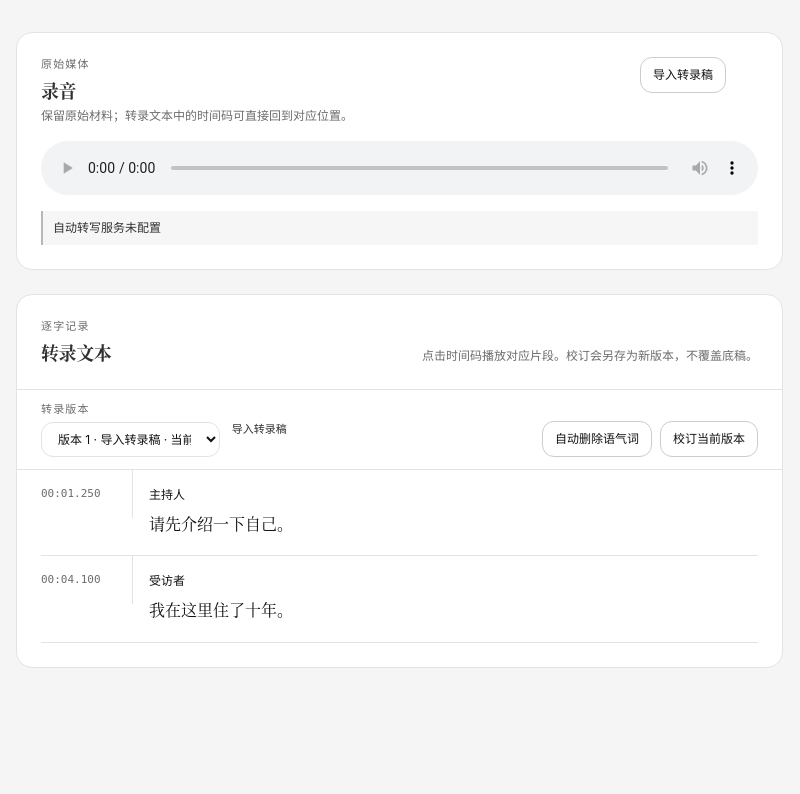
Test: MediaTranscriptWorkspace › saves speaker and text corrections as a new version
The width and height of the screenshot is (800, 794).
Click the button "校订当前版本" at (709, 439), box [660,421,758,457]
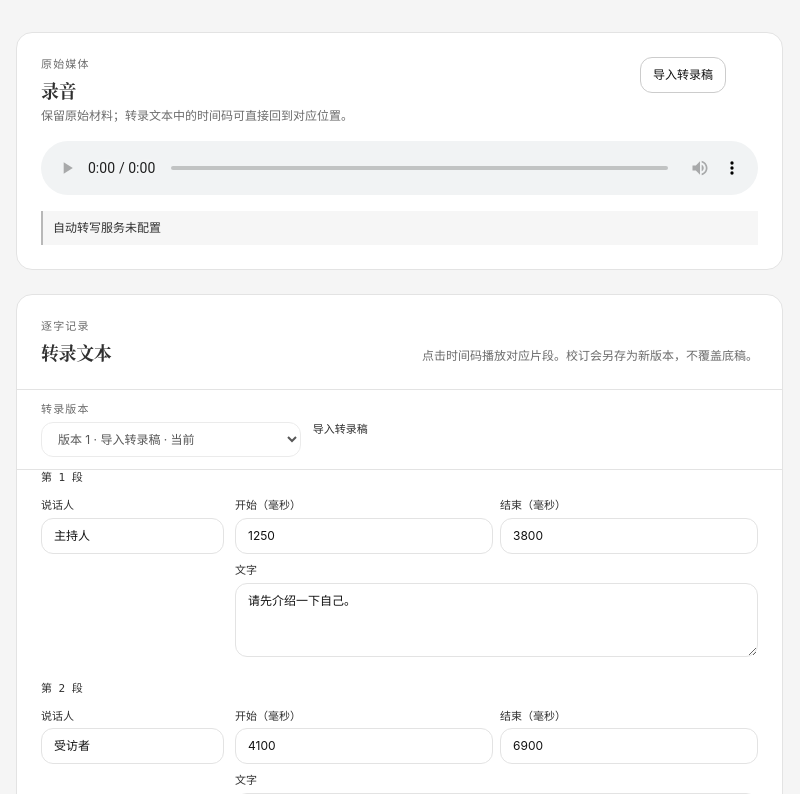
Replace the text in the field named "第 1 段说话人" with "访谈员" at (132, 536), box [41,518,224,554]
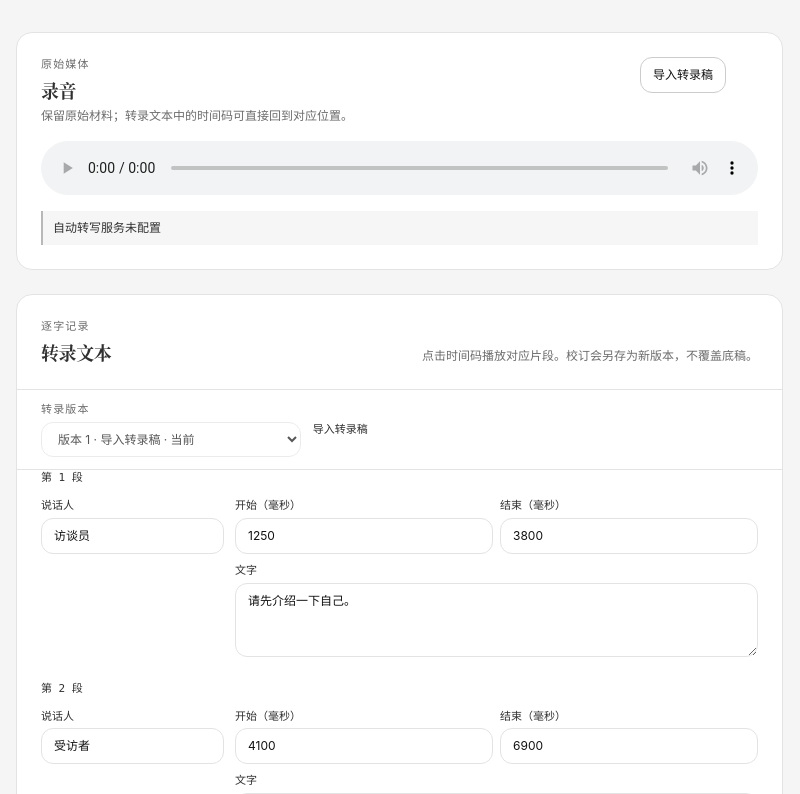
Replace the text in the text box named "第 1 段文字" with "请先简单介绍一下自己。" at (497, 620), box [235,583,758,657]
(page scrolled)
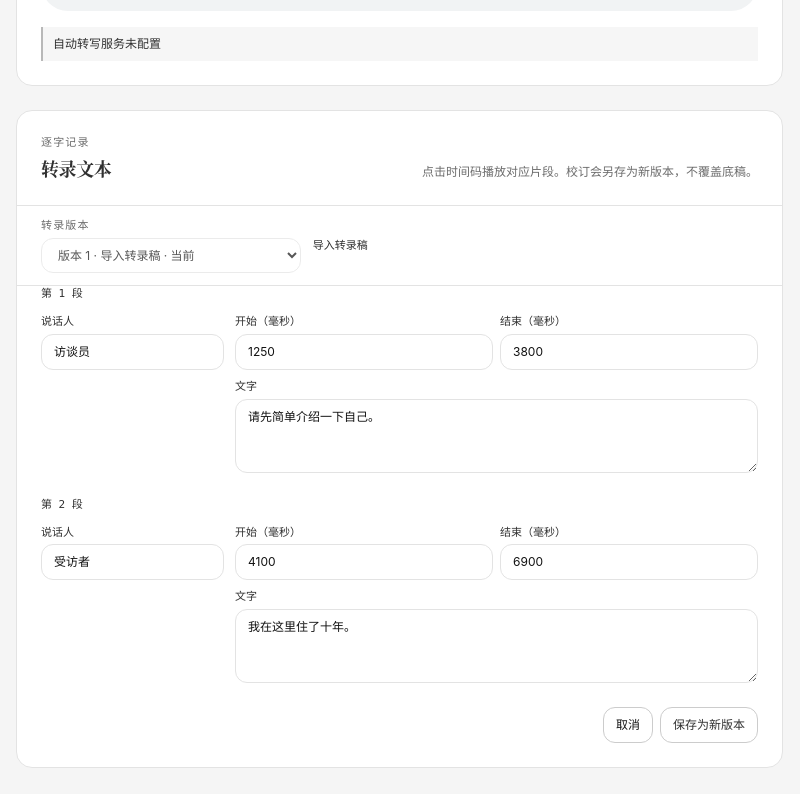
Click the button "保存为新版本" at (709, 725), box [660,707,758,743]
(page scrolled)
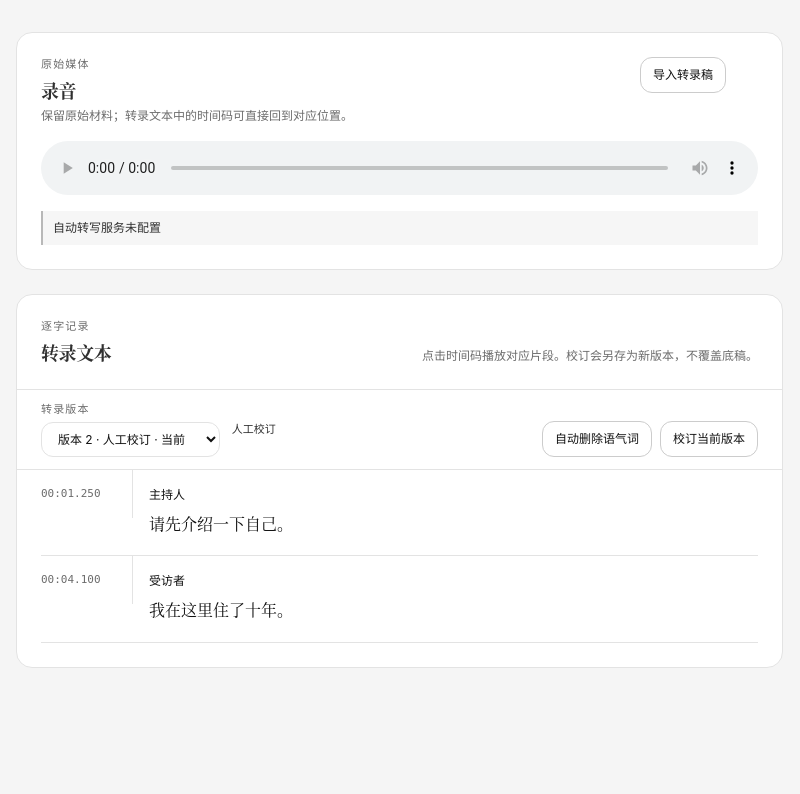
Check: the dropdown labelled "转录版本" shows "版本 2 · 人工校订 · 当前", box [41,422,220,457]
